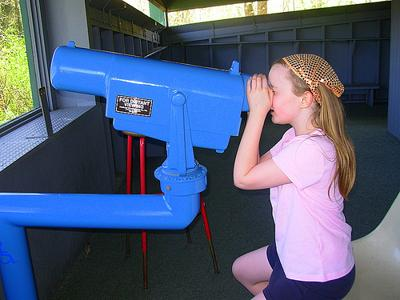person: (233, 54, 358, 300)
